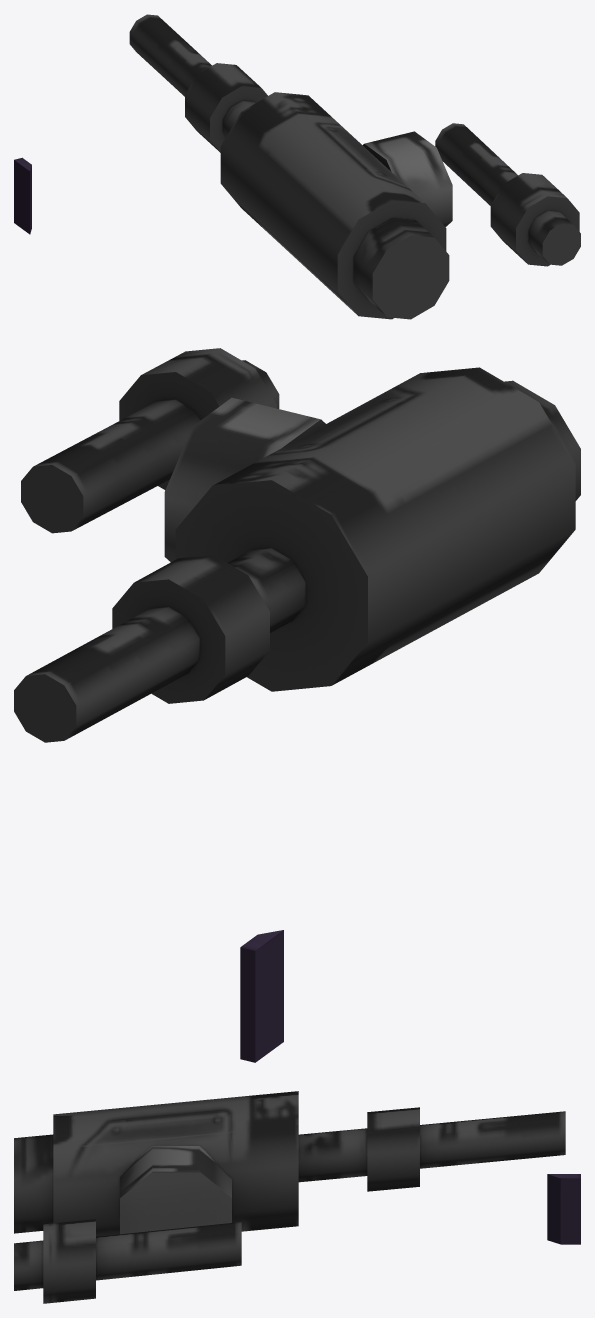
The model's file is newshb-47.glb.
3 renders of one model, top to bottom at view 1: azimuth 30°, elevation 25°; view 2: azimuth 150°, elevation 25°; view 3: azimuth 270°, elevation 25°, orthographic. The views are drawn at different scales.
Visible parts, largest first — view 1: newshb-47; view 2: newshb-47; view 3: newshb-47.
Part boxes in pixels (box(x1,y1,x2,y2)): newshb-47: box(14, 14, 580, 319); newshb-47: box(14, 348, 580, 1062); newshb-47: box(14, 1091, 580, 1303).
Bounding box in the file's own units: 1.53 × 0.9449 × 2.33.
3 materials, 3 textured.
